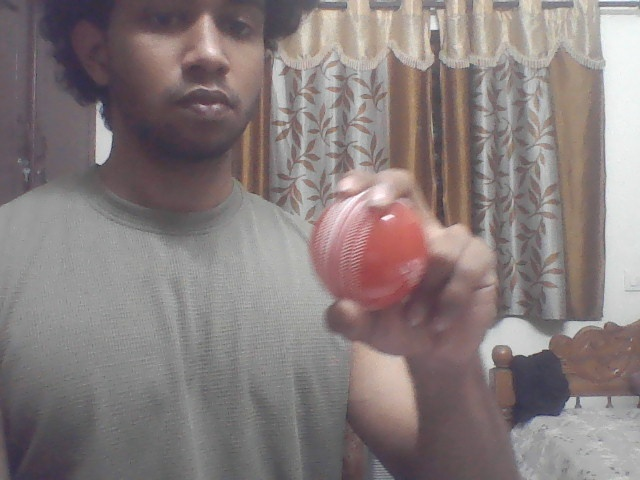cricket_ball: (306, 189, 429, 315)
